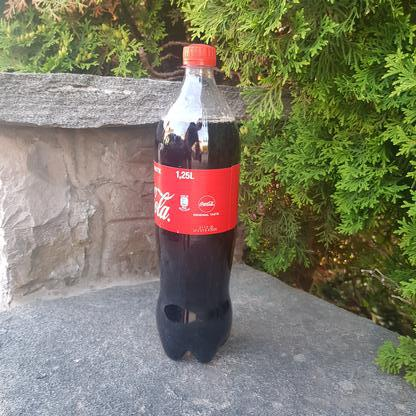coca-cola: (151, 43, 242, 367)
